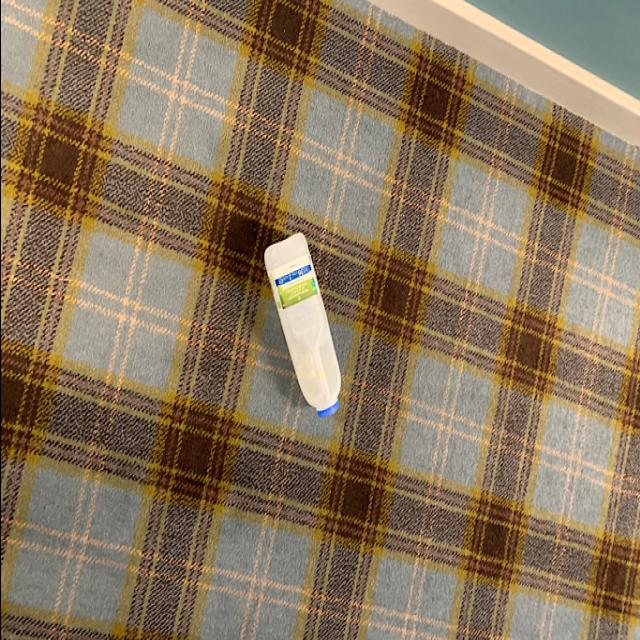HDPEM: (259, 230, 341, 425)
